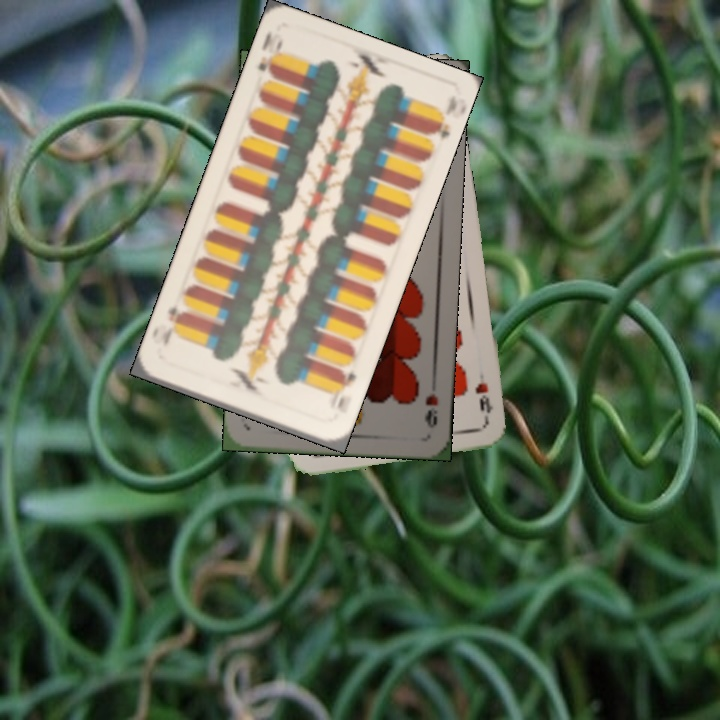E10: (254, 26, 286, 81), (326, 366, 359, 412)
H9: (471, 369, 496, 424), (421, 389, 441, 430)
